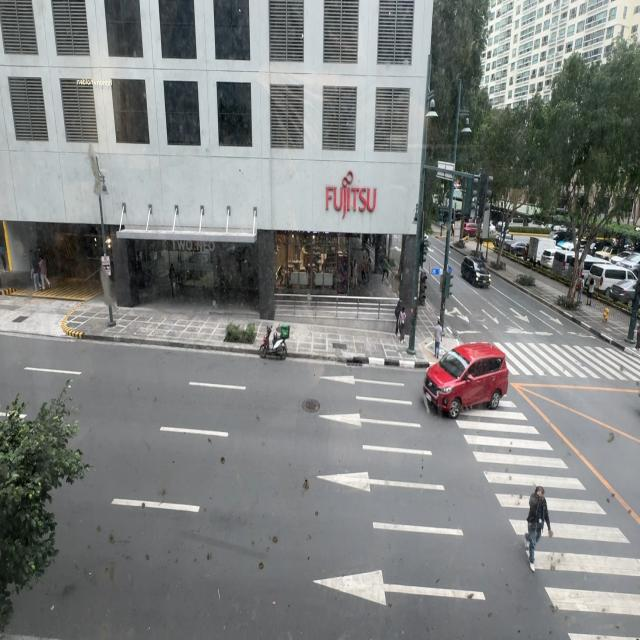crossing: (520, 482, 550, 568)
pedestrain: (30, 250, 42, 292), (395, 298, 403, 334), (398, 306, 406, 342), (586, 274, 594, 306)
waiting: (433, 319, 442, 357)
